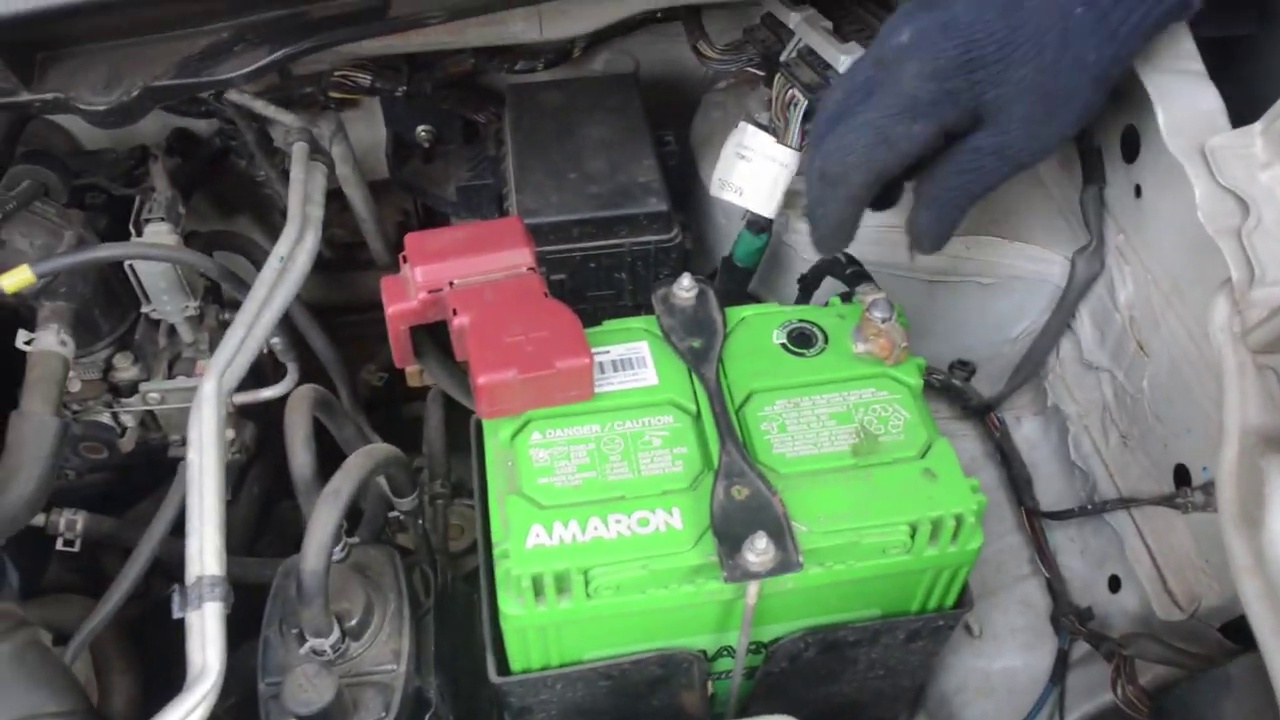battery: (456, 277, 983, 609)
neg_connected: (835, 258, 924, 380)
pos_connected: (397, 223, 597, 419)
